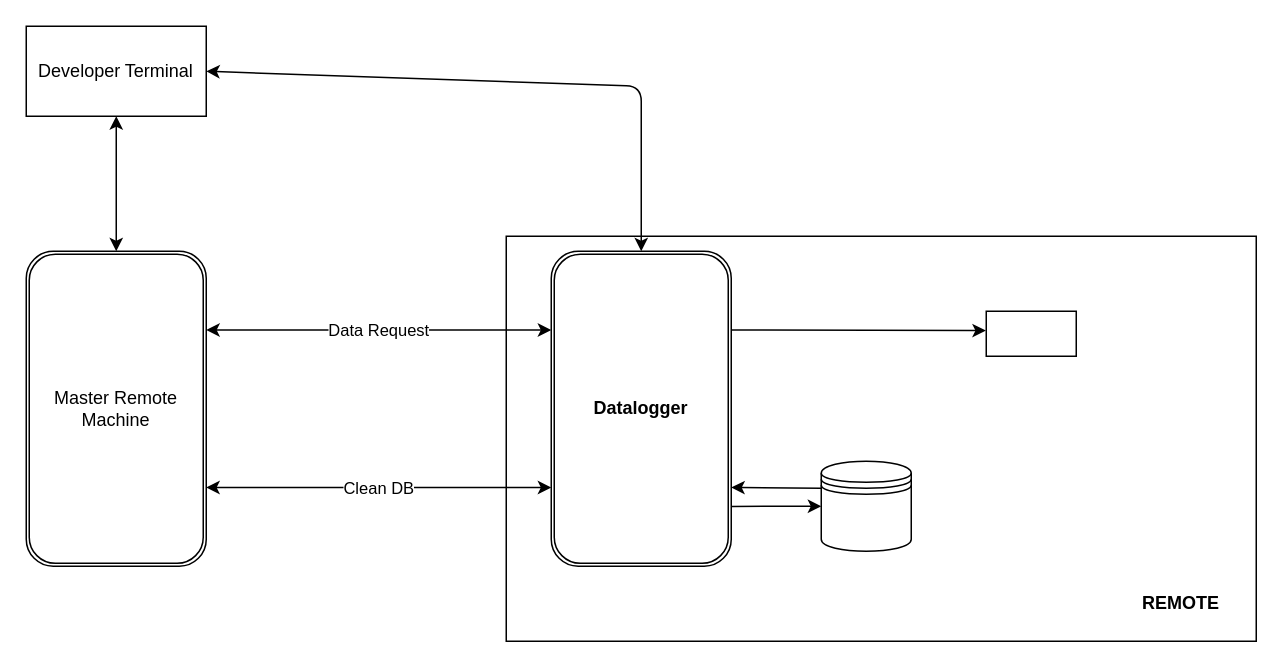
The diagram is 1283 pixels wide and 668 high, and some of its shapes have lost their labels. Here are the shapes that lost their labels. From the top down, the centre of each, then its label:
the point at 1030,333: Sensors
the point at 865,505: DB
